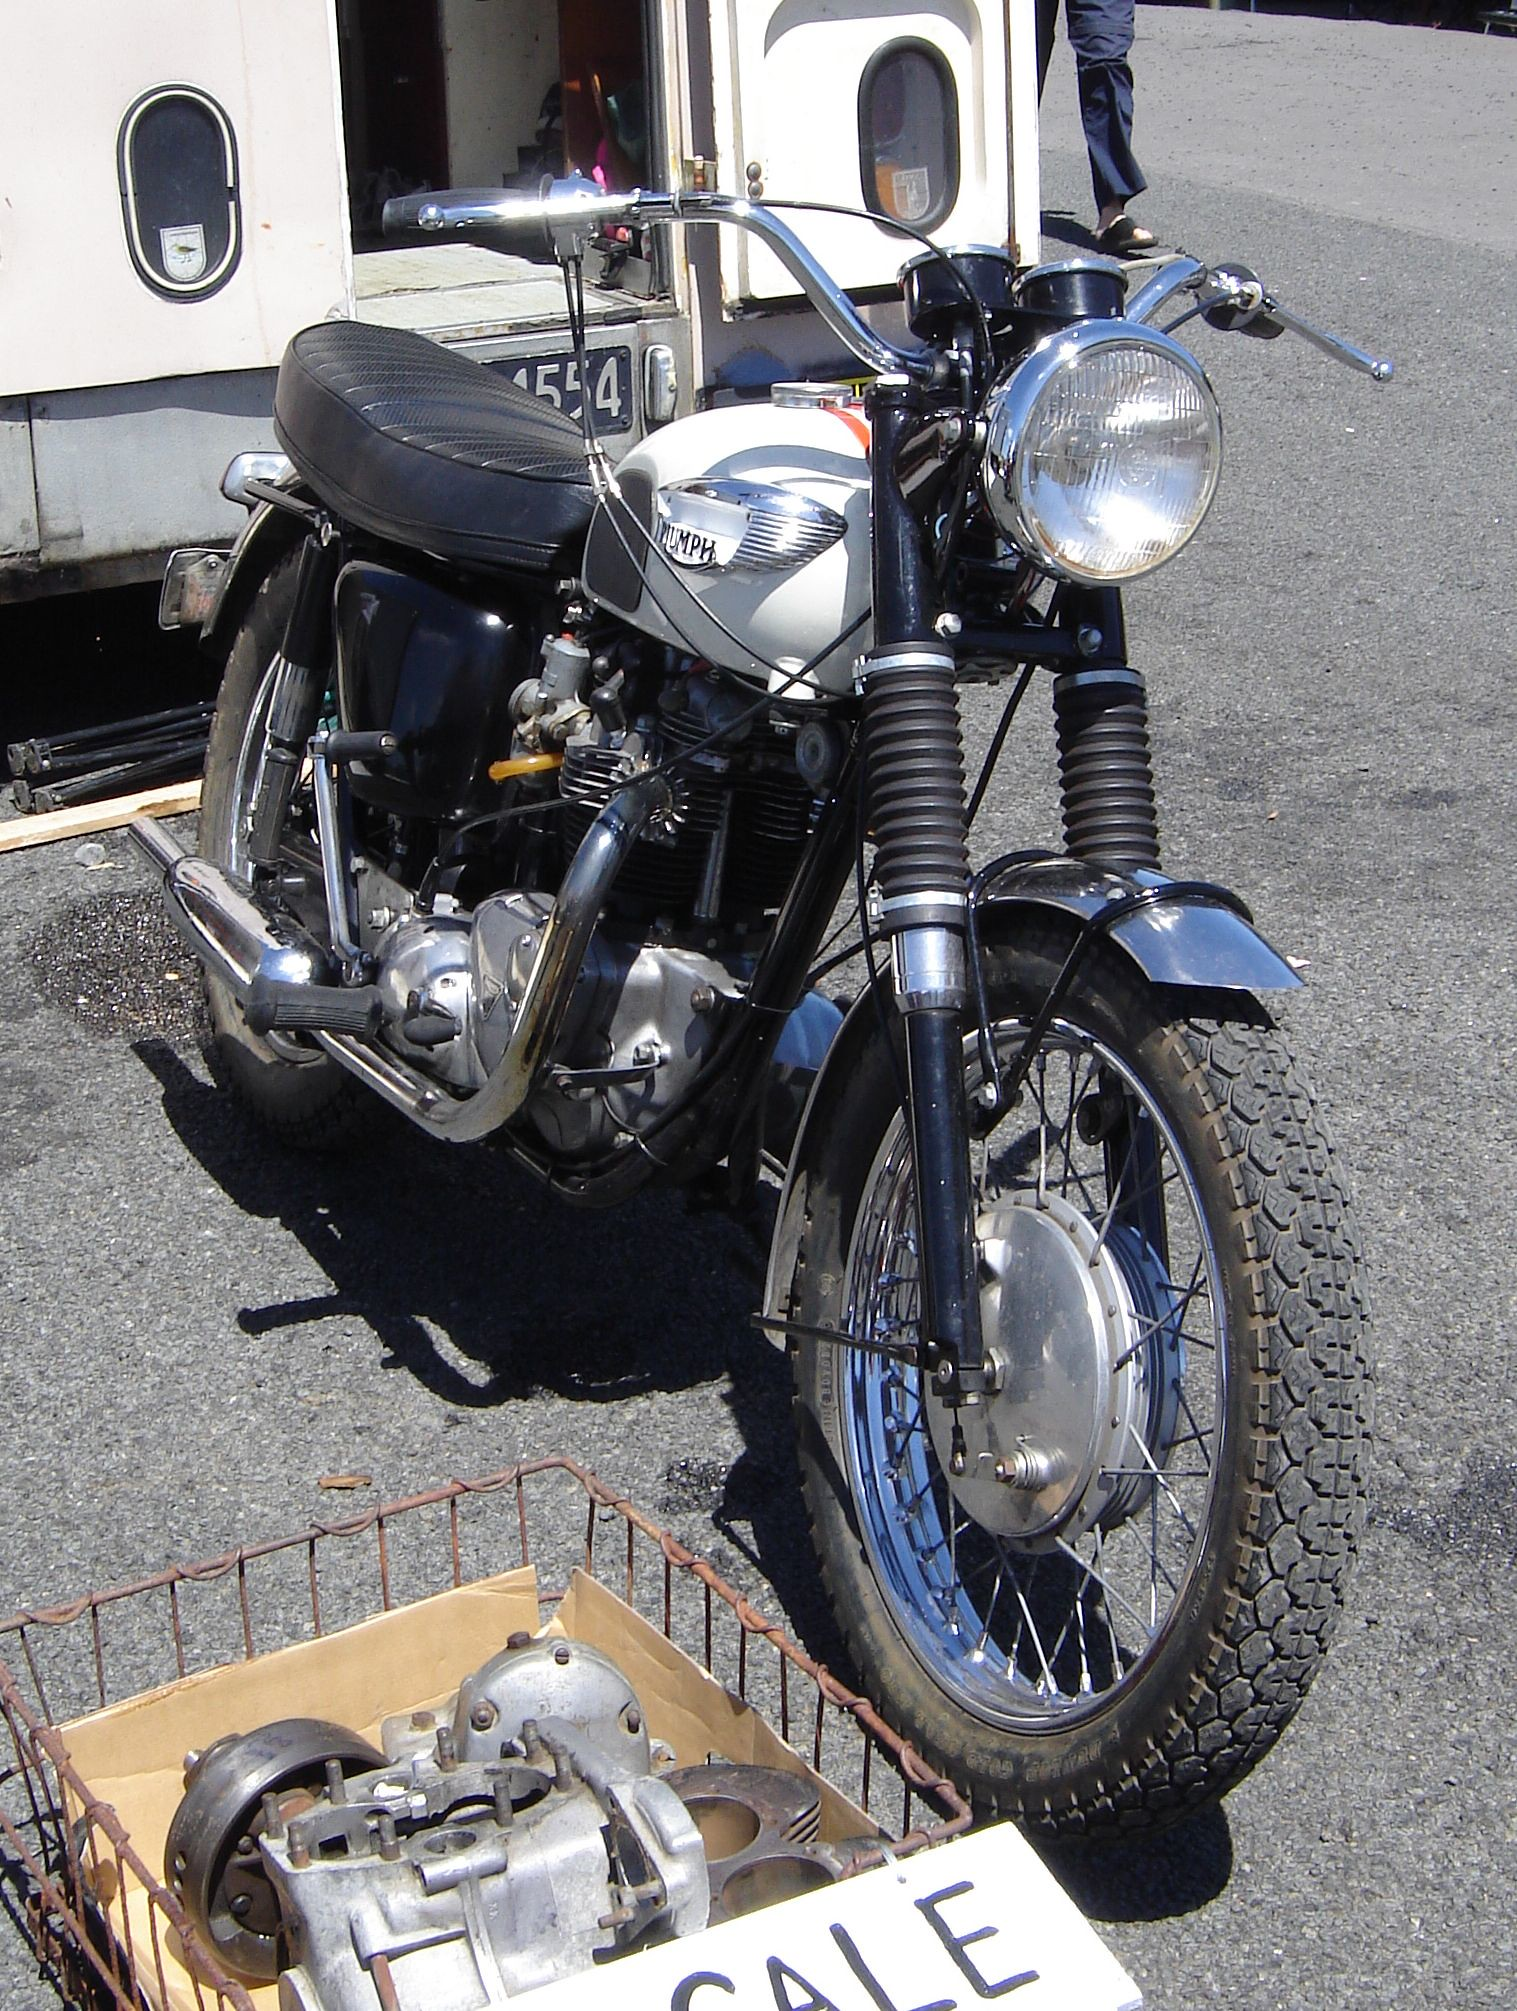motor bike: (56, 207, 1382, 1848)
